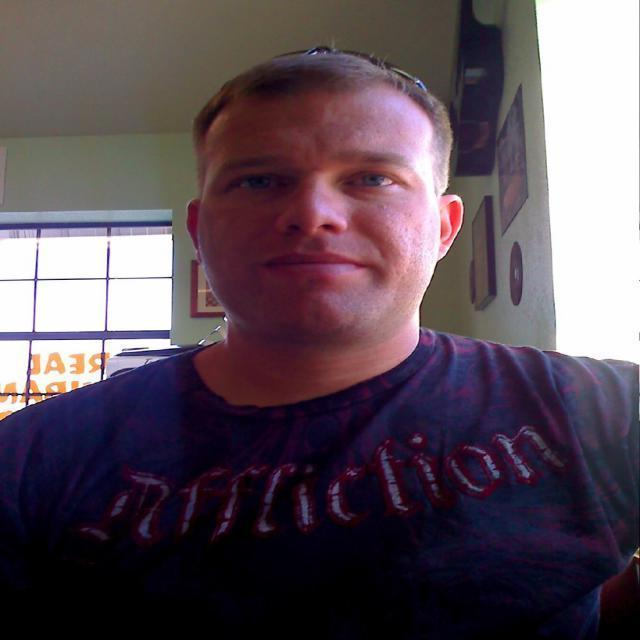closed-mouth: (258, 248, 377, 281)
